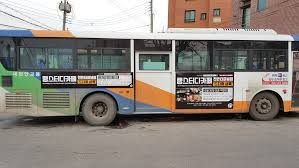out: (278, 30, 299, 115)
